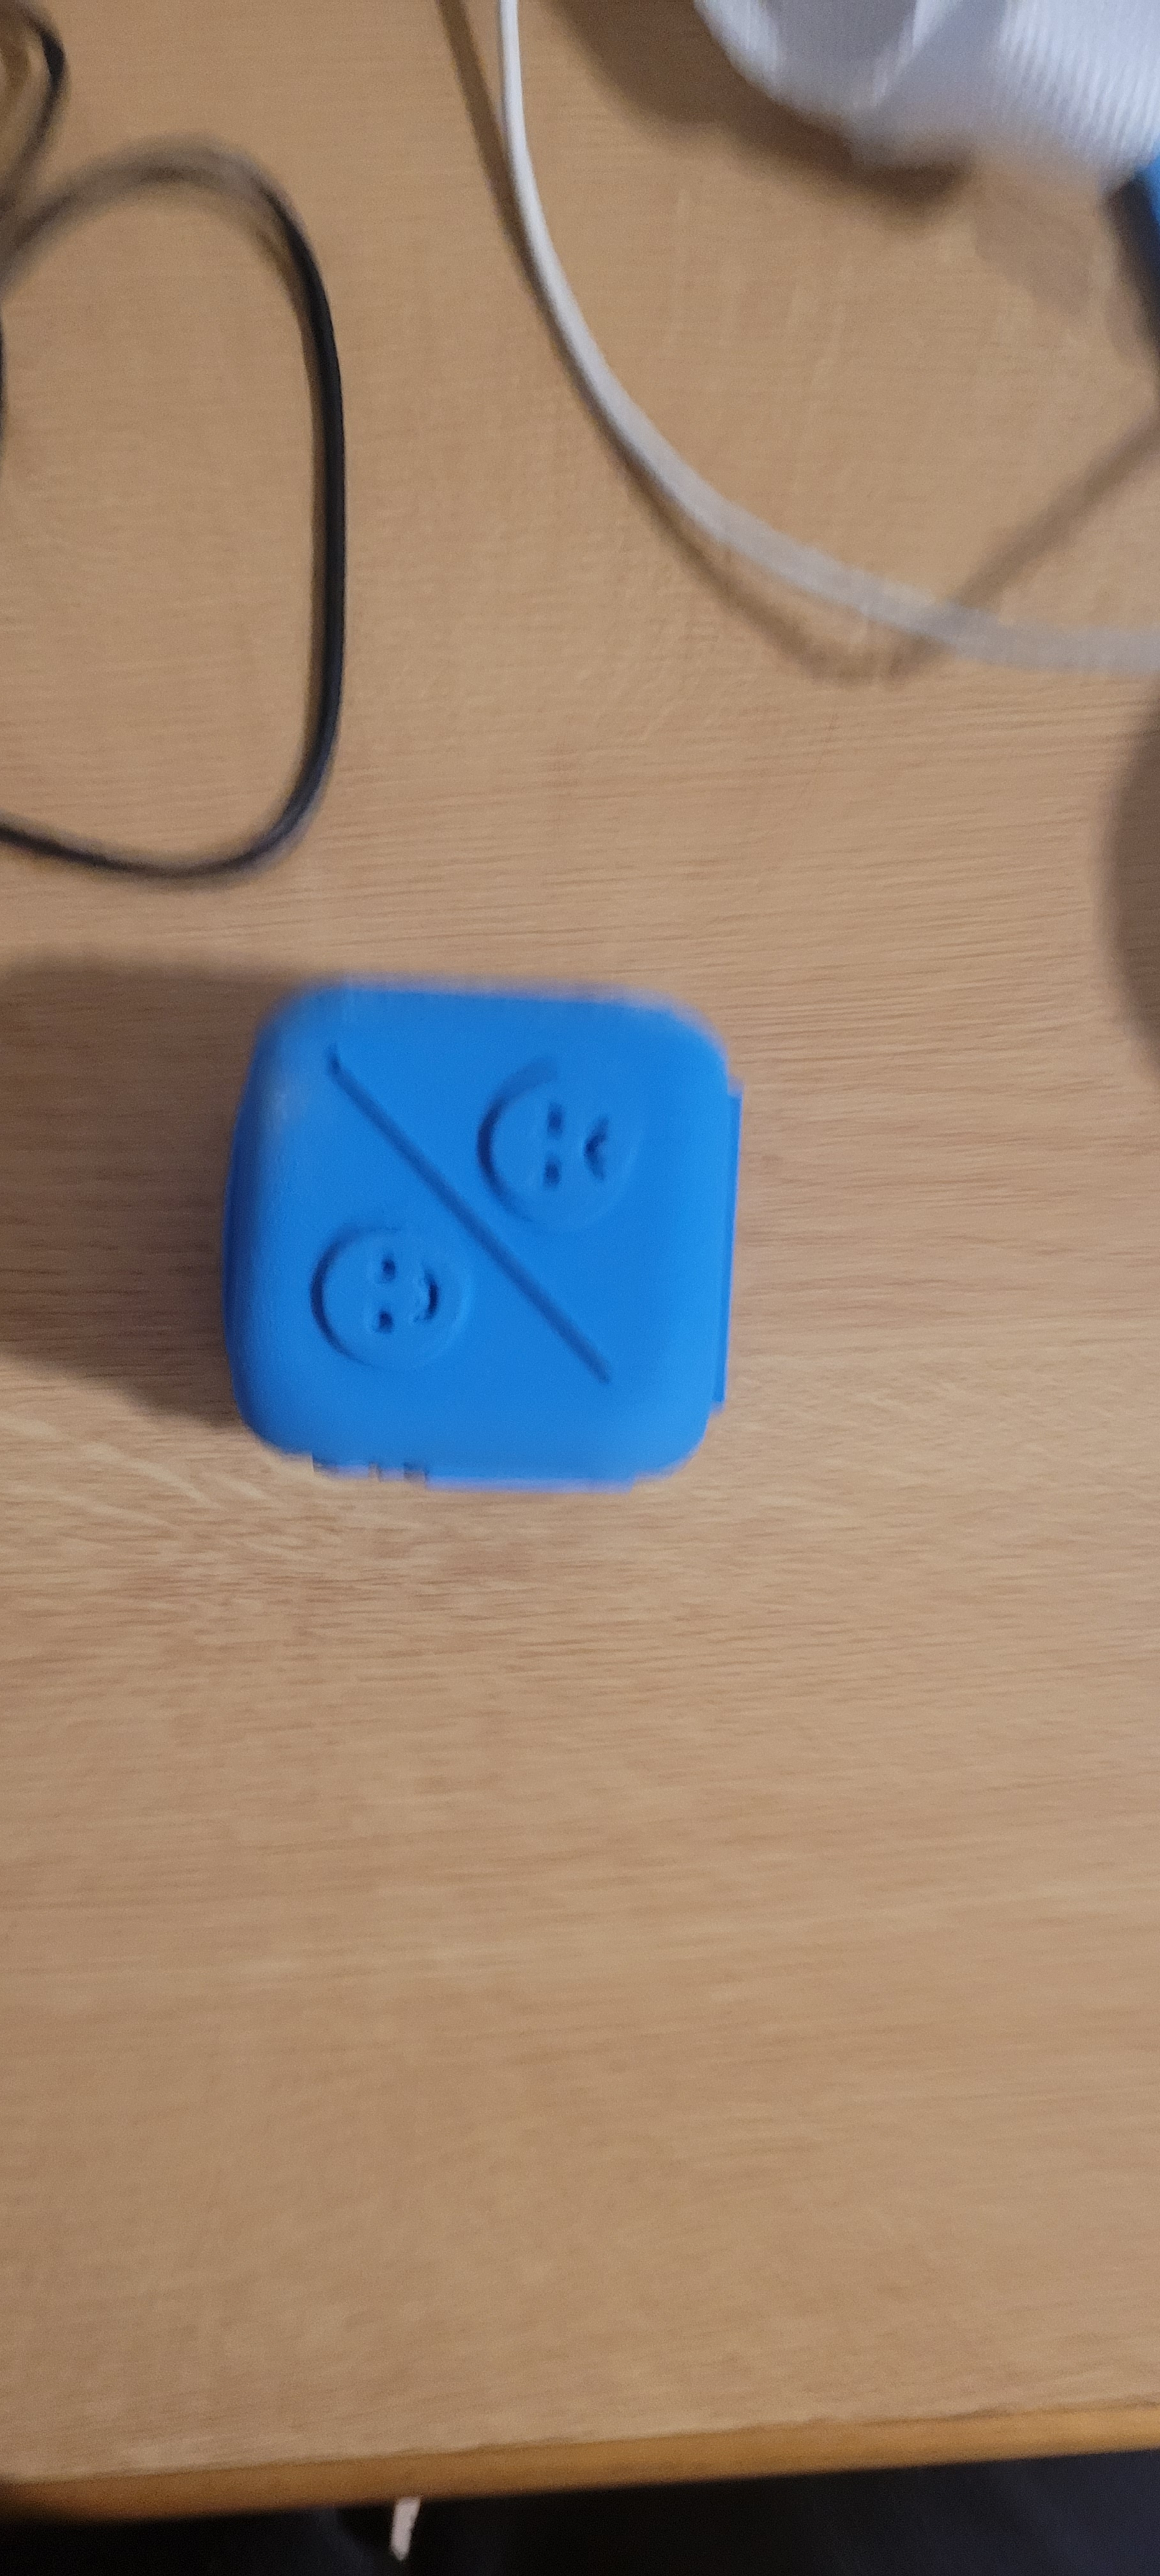Like/Dislike: (238, 946, 744, 1513)
